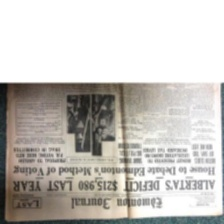news_paper: (4, 82, 223, 221)
